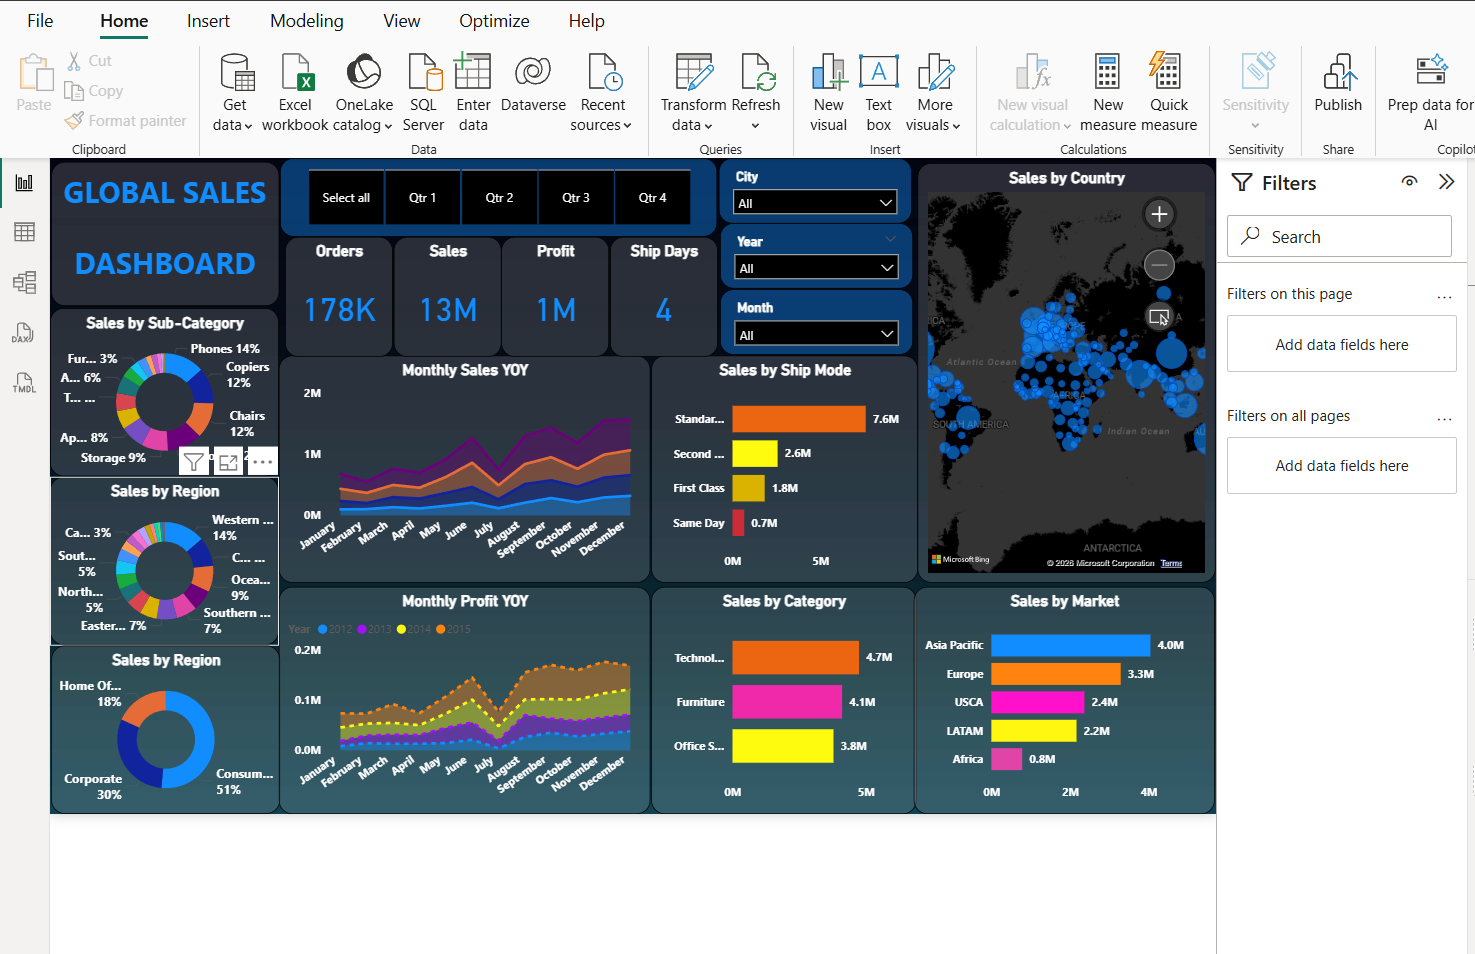

What the dashboard file says about the page in this screenshot:
{"tool":"powerbi","page":{"name":"sales dashboaed","canvas":[1280,720],"ordinal":0},"visuals":[{"type":"textbox","box":[2,4,250,158],"z":0},{"type":"card","title":"Orders","fields":{"Values":["Sum(Orders.Quantity)"]},"box":[258,86,118.5,132.3],"z":0,"group":"g1"},{"type":"card","title":"Sales","fields":{"Values":["Sum(Orders.Sales)"]},"box":[376.6,86,118.6,132.3],"z":1000,"group":"g1"},{"type":"clusteredBarChart","title":"Sales by Ship Mode","fields":{"Y":["Sum(Orders.Sales)"],"Category":["Orders.Ship Mode"]},"box":[659.5,217.3,292.9,249.5],"z":1000},{"type":"card","title":"Profit","fields":{"Values":["Sum(Orders.Profit)"]},"box":[495.2,86,118.6,132.3],"z":2000,"group":"g1"},{"type":"clusteredBarChart","title":"Sales by Category","fields":{"Y":["Sum(Orders.Sales)"],"Category":["Orders.Category"]},"box":[659.5,470.6,291,249.5],"z":2000},{"type":"card","title":"Ship Days","fields":{"Values":["Avg(Orders.AVG DeliveryDays)"]},"box":[614,86,118,132],"z":3000,"group":"g1"},{"type":"clusteredBarChart","title":"Sales by Market","fields":{"Y":["Sum(Orders.Sales)"],"Category":["Orders.Market"]},"box":[948.7,470.5,330.7,249.5],"z":3000},{"type":"map","title":"Sales by Country","fields":{"Size":["Sum(Orders.Sales)"],"Category":["Orders.Country"]},"box":[952.4,5.7,326.9,461.1],"z":4000},{"type":"stackedAreaChart","title":"Monthly Profit YOY","fields":{"Category":["Orders.Order Date.Variation.Date Hierarchy.Month"],"Series":["Orders.Order Date.Variation.Date Hierarchy.Year"],"Y":["Sum(Orders.Profit)"]},"box":[251.3,470.6,408.2,249.5],"z":5000},{"type":"stackedAreaChart","title":"Monthly Sales YOY","fields":{"Y":["Sum(Orders.Sales)"],"Category":["Orders.Order Date.Variation.Date Hierarchy.Month"],"Series":["Orders.Order Date.Variation.Date Hierarchy.Year"]},"box":[251.3,217.3,408.2,249.5],"z":6000},{"type":"donutChart","title":"Sales by Sub-Category","fields":{"Y":["Sum(Orders.Sales)"],"Category":["Orders.Sub-Category"]},"box":[0,164.4,251.3,185.2],"z":7000},{"type":"donutChart","title":"Sales by Region","fields":{"Y":["Sum(Orders.Sales)"],"Category":["Orders.Region"]},"box":[0,349.6,251.3,185.2],"z":8000},{"type":"donutChart","title":"Sales by Region","fields":{"Y":["Sum(Orders.Sales)"],"Category":["Orders.Segment"]},"box":[1.9,534.8,251.3,185.2],"z":9000},{"type":"slicer","fields":{"Values":["Orders.City"]},"box":[734,0,212,72],"z":10000},{"type":"slicer","fields":{"Values":["Orders.Order Date.Variation.Date Hierarchy.Quarter"]},"box":[252,0,480,86],"z":10004,"group":"g1"},{"type":"slicer","fields":{"Values":["Orders.Order Date.Variation.Date Hierarchy.Year"]},"box":[736,72,212,72],"z":11000},{"type":"slicer","fields":{"Values":["Orders.Order Date.Variation.Date Hierarchy.Month"]},"box":[736,144,212,72],"z":12000},{"type":"group","id":"g1","title":"Group 1","box":[252,0,480,218.3],"z":13000}]}

Visuals, with their boxes on the page's 1280x720 design canvas (x1, y1, x2, y2). These are canvas units, not pixel positions in the 1475x954 screenshot, which may show the page scaled, cropped or inside an application window:
textbox: 2/4/252/162
"Orders" card: 258/86/376/218
"Sales" card: 377/86/495/218
"Sales by Ship Mode" clusteredBarChart: 660/217/952/467
"Profit" card: 495/86/614/218
"Sales by Category" clusteredBarChart: 660/471/950/720
"Ship Days" card: 614/86/732/218
"Sales by Market" clusteredBarChart: 949/470/1279/720
"Sales by Country" map: 952/6/1279/467
"Monthly Profit YOY" stackedAreaChart: 251/471/660/720
"Monthly Sales YOY" stackedAreaChart: 251/217/660/467
"Sales by Sub-Category" donutChart: 0/164/251/350
"Sales by Region" donutChart: 0/350/251/535
"Sales by Region" donutChart: 2/535/253/720
slicer - Orders.City: 734/0/946/72
slicer - Orders.Order Date.Variation.Date Hierarchy.Quarter: 252/0/732/86
slicer - Orders.Order Date.Variation.Date Hierarchy.Year: 736/72/948/144
slicer - Orders.Order Date.Variation.Date Hierarchy.Month: 736/144/948/216
"Group 1" group: 252/0/732/218
